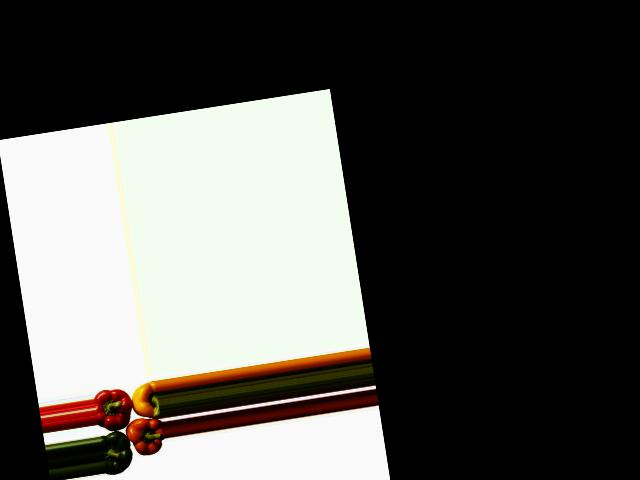bell_pepper: (127, 379, 162, 424)
